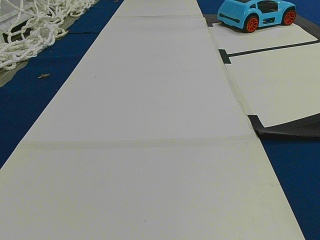car: (217, 1, 296, 31)
